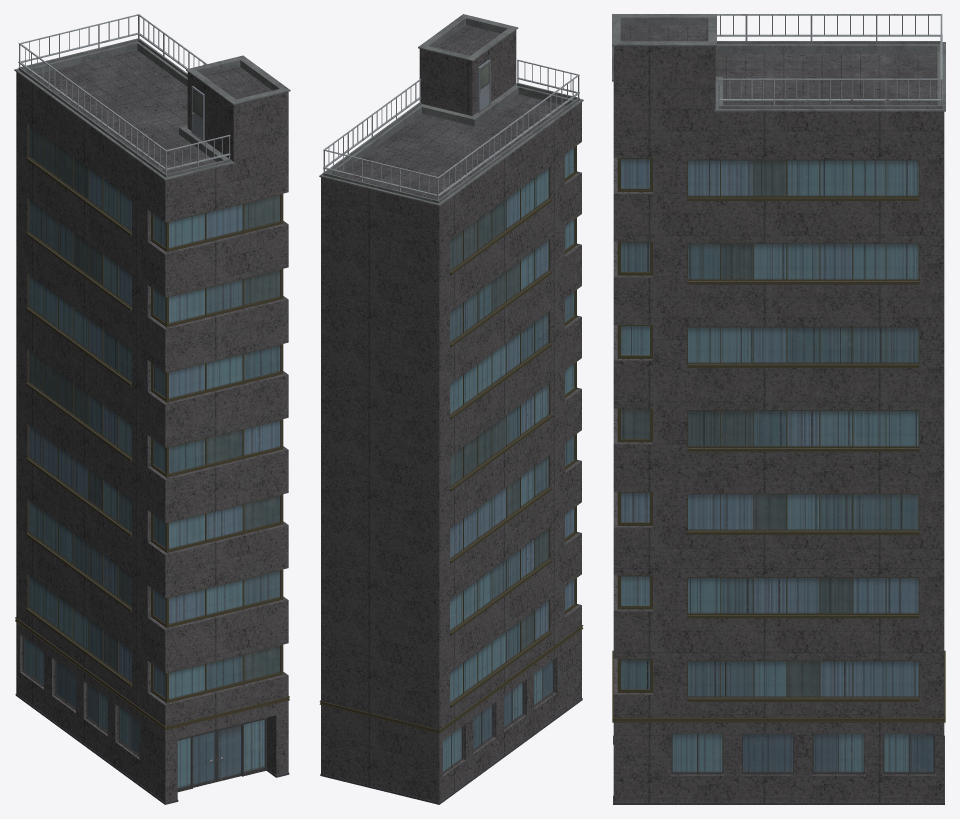
Rendered from jctBld12_6B.fbx.
3 renders of one model, left to right at view 1: azimuth 30°, elevation 25°; view 2: azimuth 150°, elevation 25°; view 3: azimuth 270°, elevation 25°, orthographic. The views are drawn at different scales.
Parts seen in each view (by area): view 1: jctBld12_6B_LOD0; view 2: jctBld12_6B_LOD0; view 3: jctBld12_6B_LOD0.
Part boxes in pixels (<box>): jctBld12_6B_LOD0: <box>14,14,290,804</box>; jctBld12_6B_LOD0: <box>319,14,583,804</box>; jctBld12_6B_LOD0: <box>612,14,945,804</box>.
Size of the model in its own units: 562 by 2915 by 1160.
